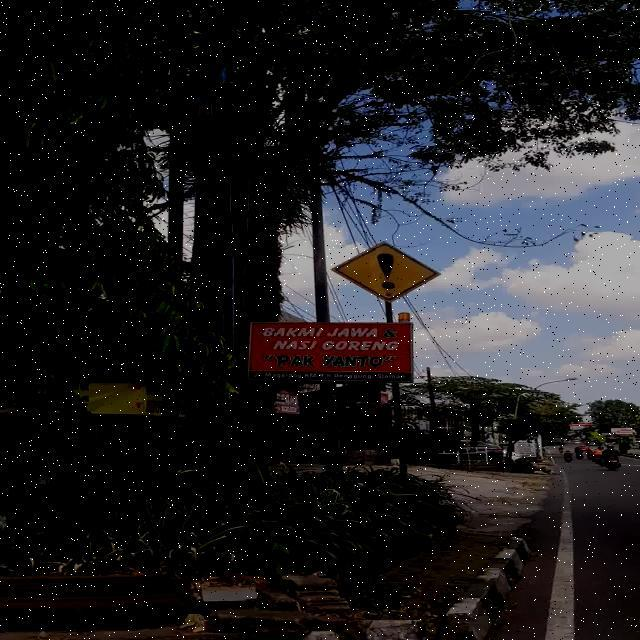Hati-Hati: (331, 241, 442, 303)
